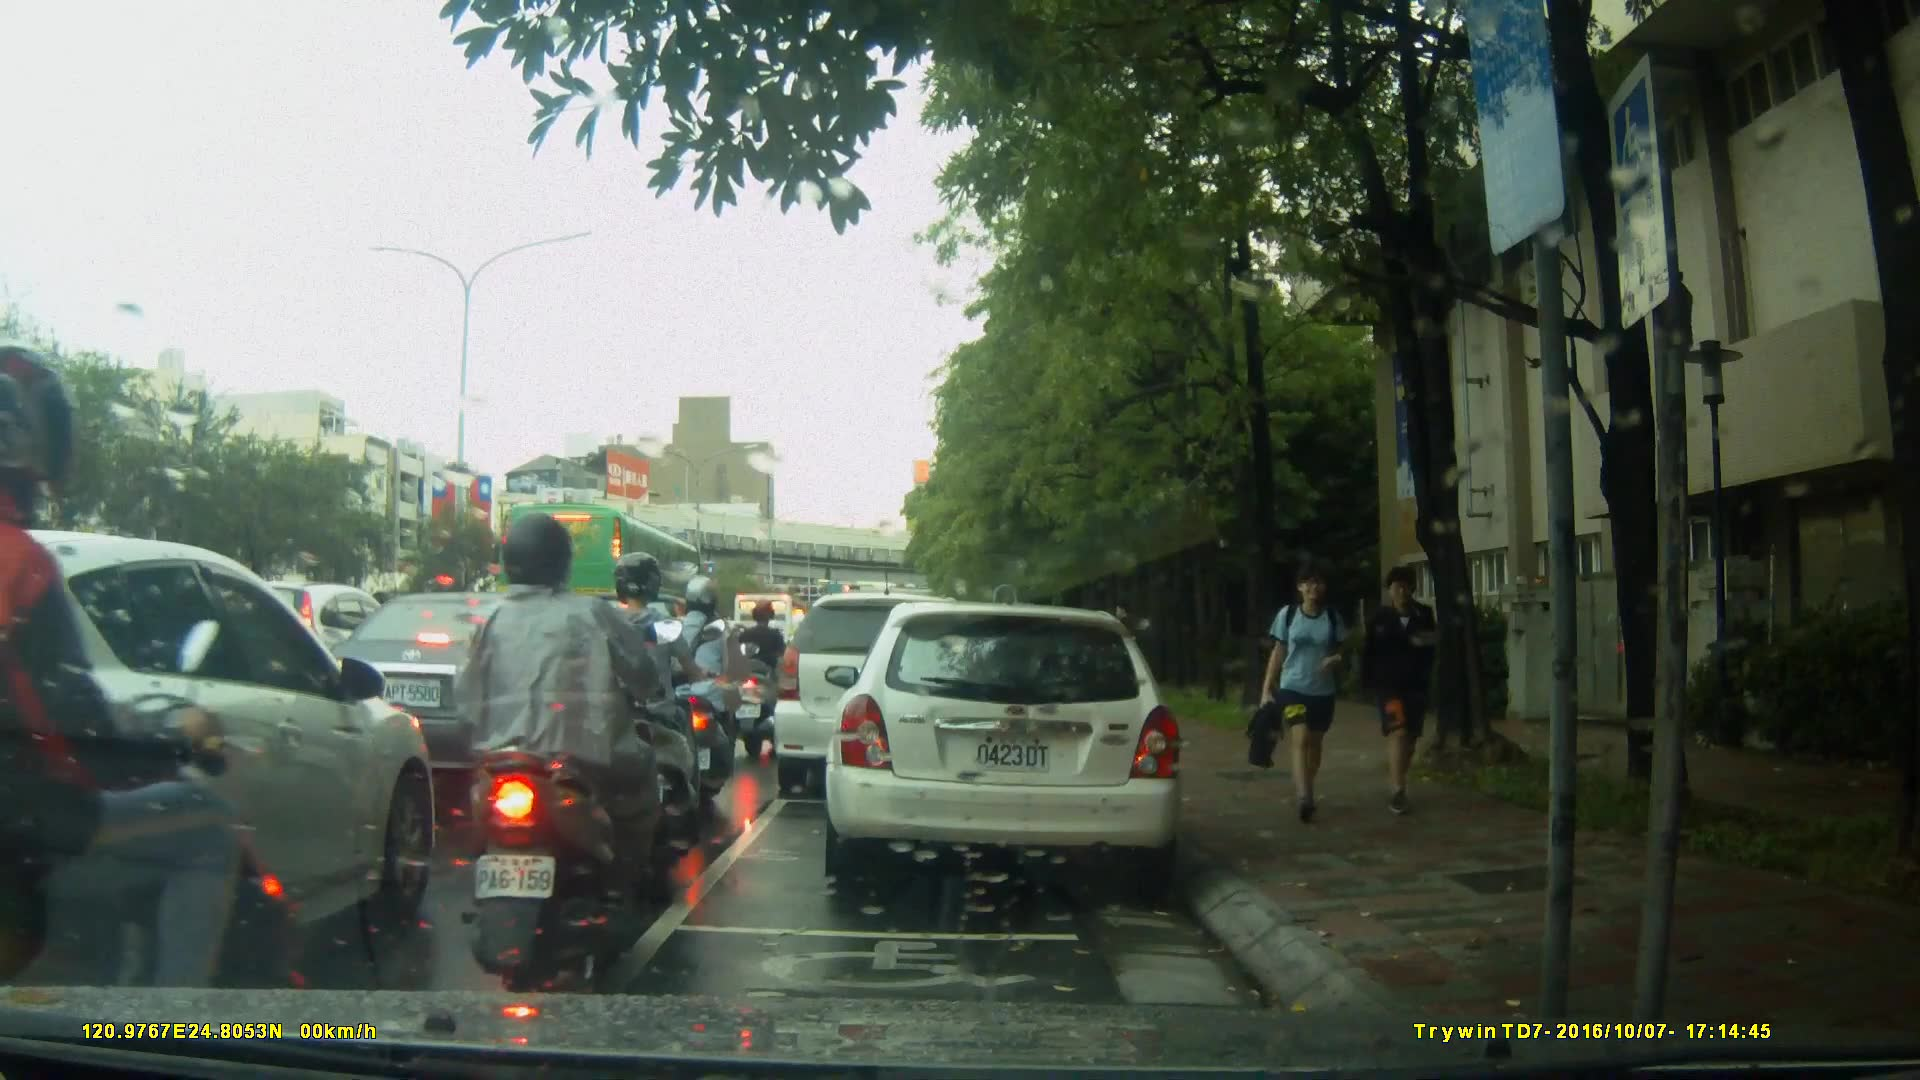pedestrian: (1241, 556, 1354, 824), (1368, 565, 1451, 813), (1111, 599, 1135, 675)
rider: (1, 347, 305, 1080), (453, 517, 685, 976), (584, 556, 712, 868), (662, 576, 744, 801), (734, 600, 797, 762)
vehicle: (1, 528, 450, 988), (831, 592, 1196, 897), (316, 590, 627, 795), (770, 591, 999, 803), (495, 500, 707, 636)
